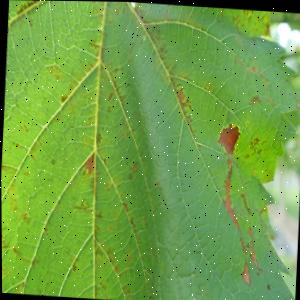Folha: (0, 0, 300, 300)
Fungo: (209, 118, 270, 284), (167, 77, 199, 135), (216, 120, 240, 155), (169, 78, 193, 110), (81, 149, 95, 175), (170, 78, 185, 101), (44, 61, 63, 79), (238, 190, 251, 213), (240, 257, 251, 283), (72, 195, 89, 211), (126, 158, 140, 175), (247, 91, 262, 104), (248, 132, 259, 148), (180, 95, 192, 109), (119, 197, 128, 213), (111, 259, 119, 273), (106, 88, 114, 100), (59, 91, 67, 102), (18, 122, 27, 131), (95, 130, 102, 141), (106, 102, 114, 111), (122, 127, 127, 138), (266, 280, 270, 288)
